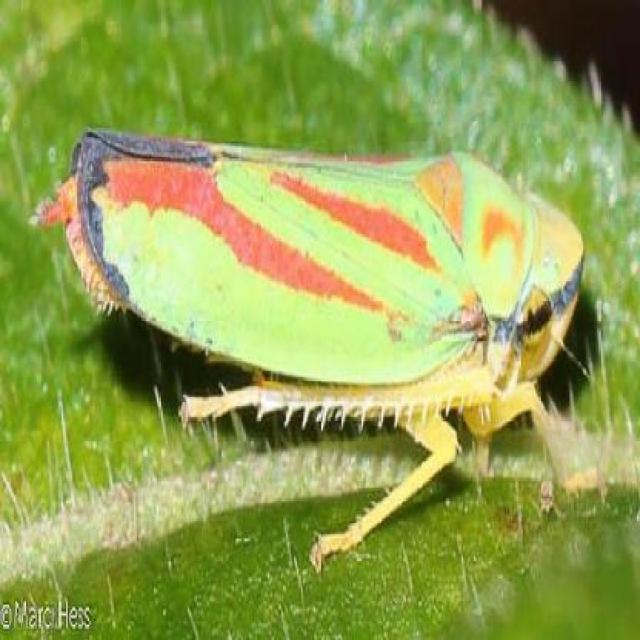green-leafhopper: (66, 135, 582, 457)
